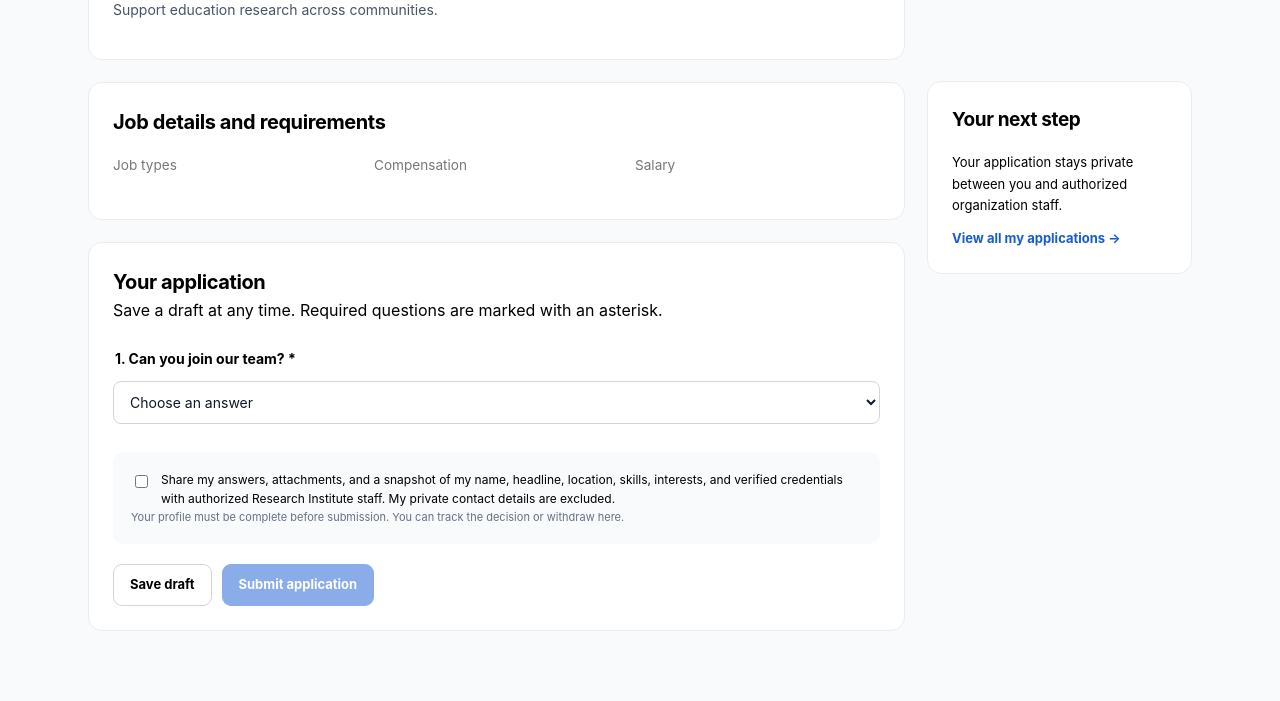
Test: applicants preserve a false answer and drafts across failures, then explicitly share and submit
(page scrolled)
Select "No" in the dropdown named "Can you join our team?". click: (496, 402)
box: [113,380,880,424]
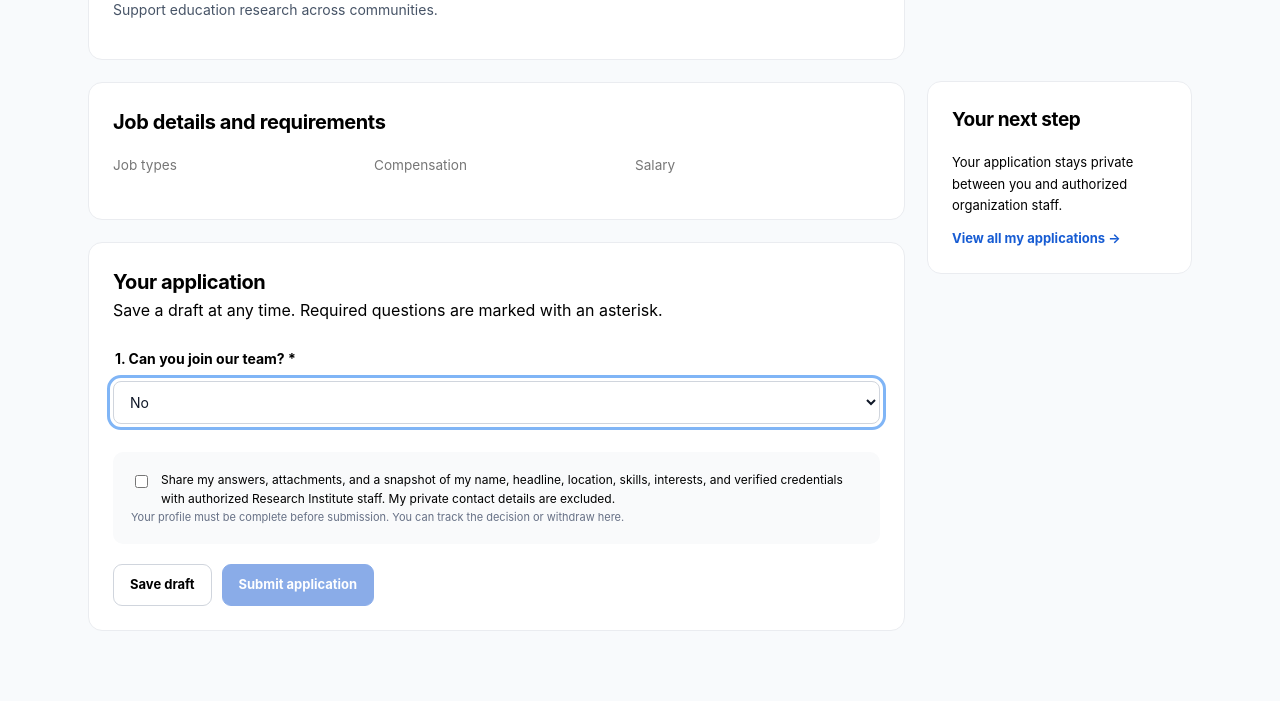
Expected: the button "Submit application" is disabled, [222,564,374,606]
Click the checkbox. click: (142, 481)
box: [135,474,148,488]
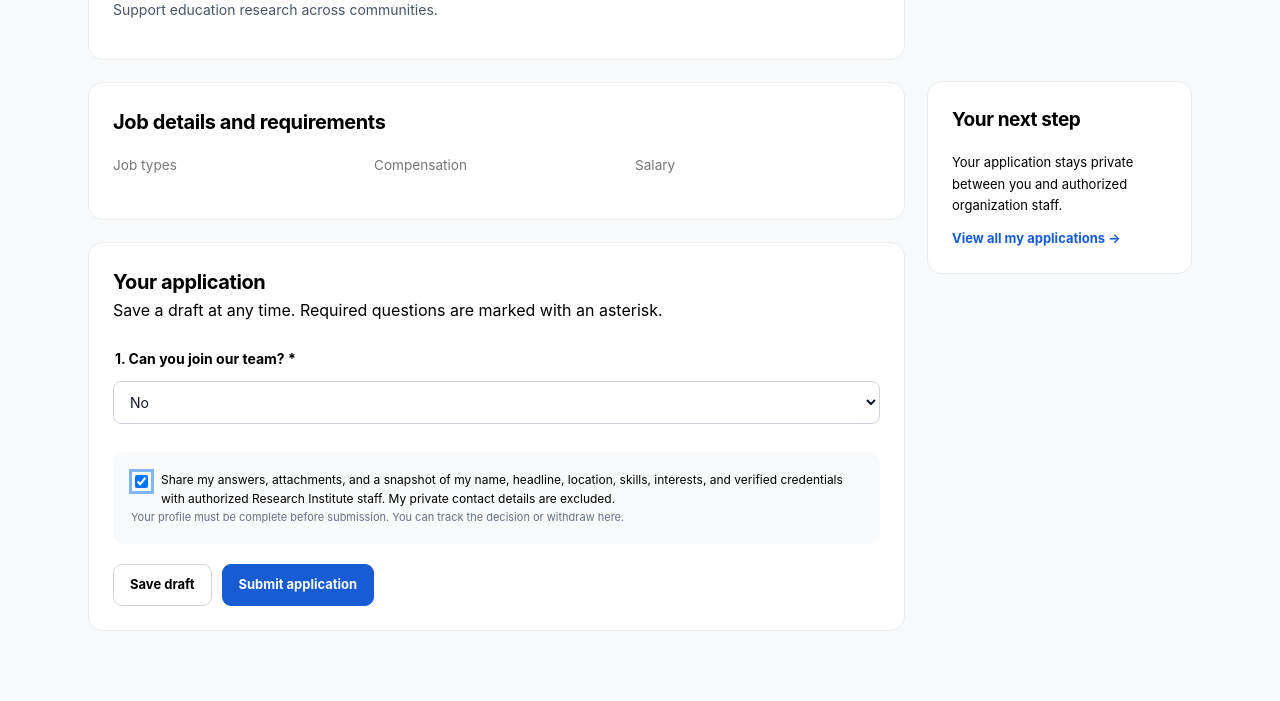
Click the button "Submit application". click: (298, 585)
box: [222,564,374,606]
(page scrolled)
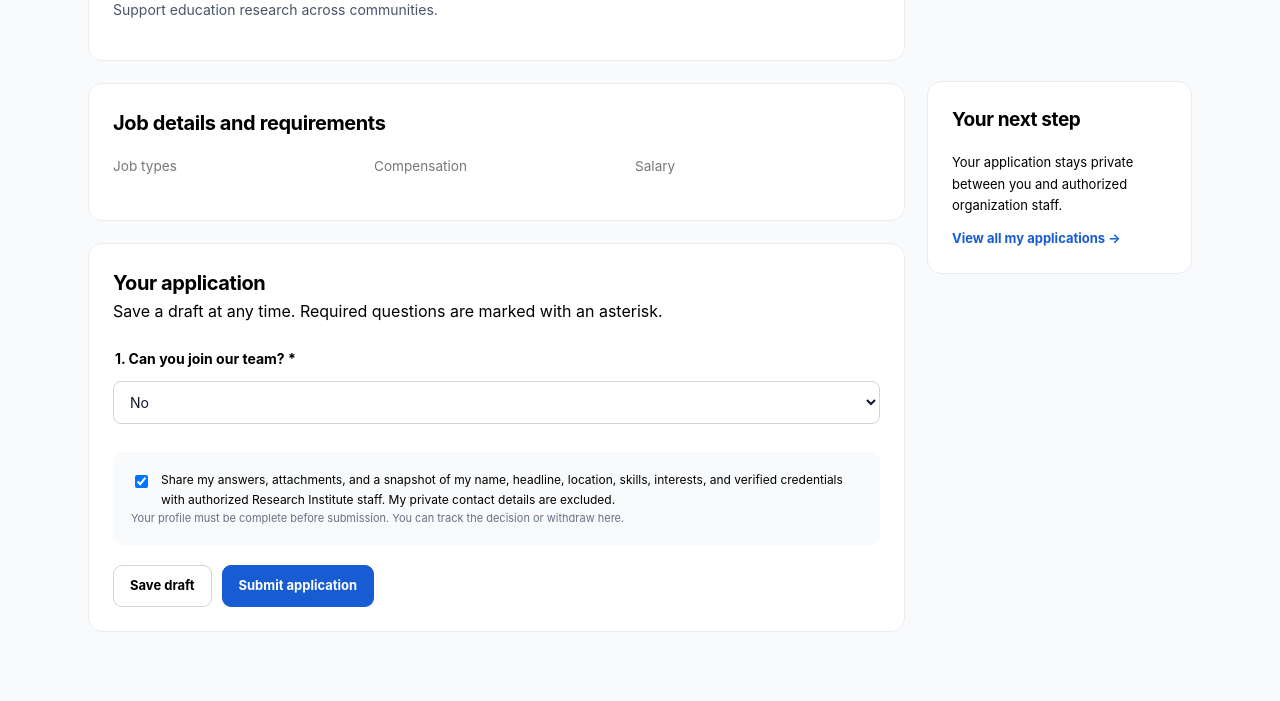
Click the button "Submit application". click: (298, 586)
box: [222,565,374,607]
(page scrolled)
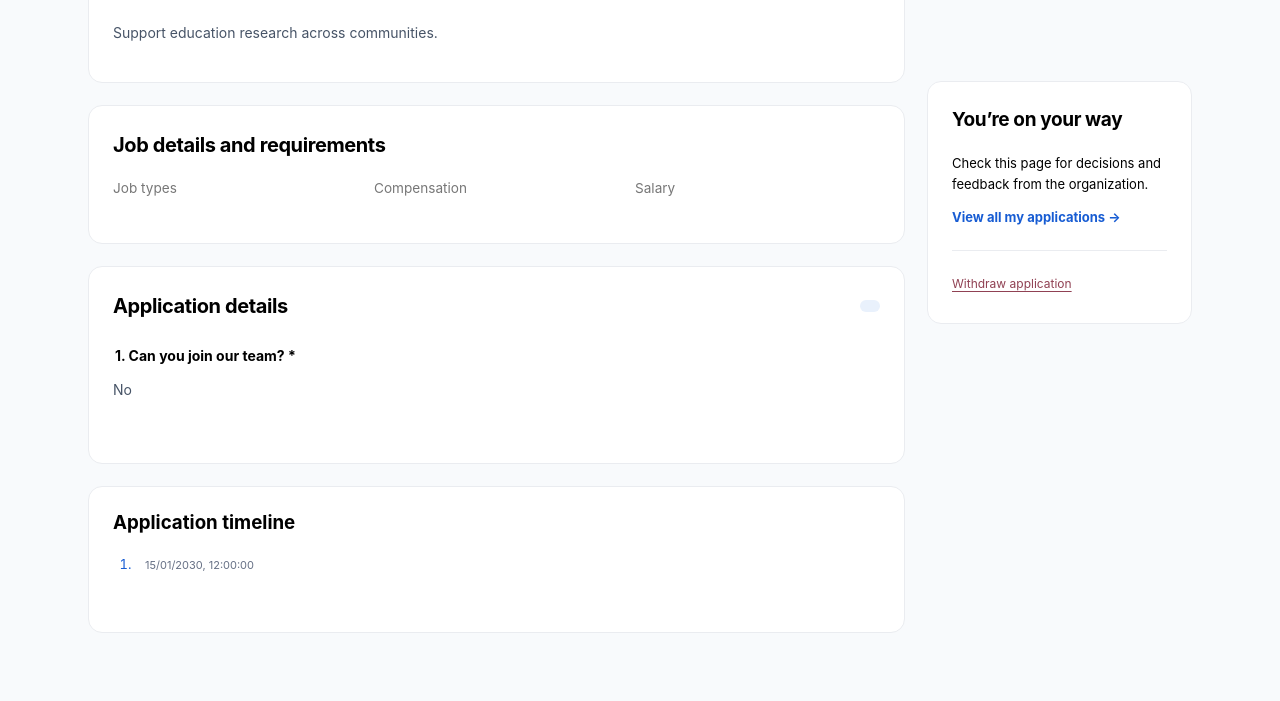
Expected: the heading "Application timeline" is shown, [113,511,295,534]
Expected: the button "Submit application" is gone
